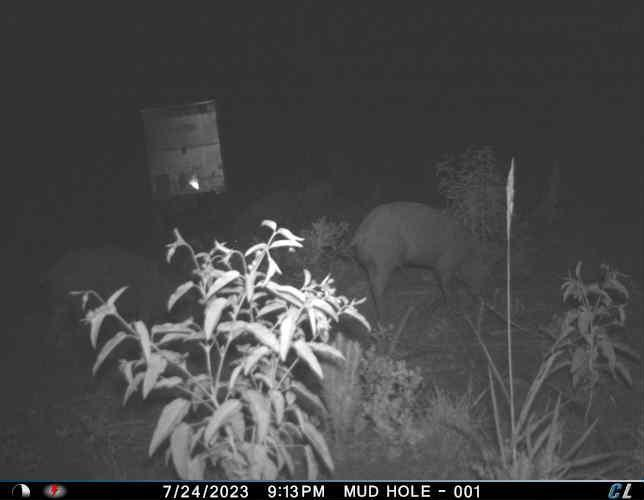Hog: (339, 197, 509, 326), (40, 241, 196, 346)
